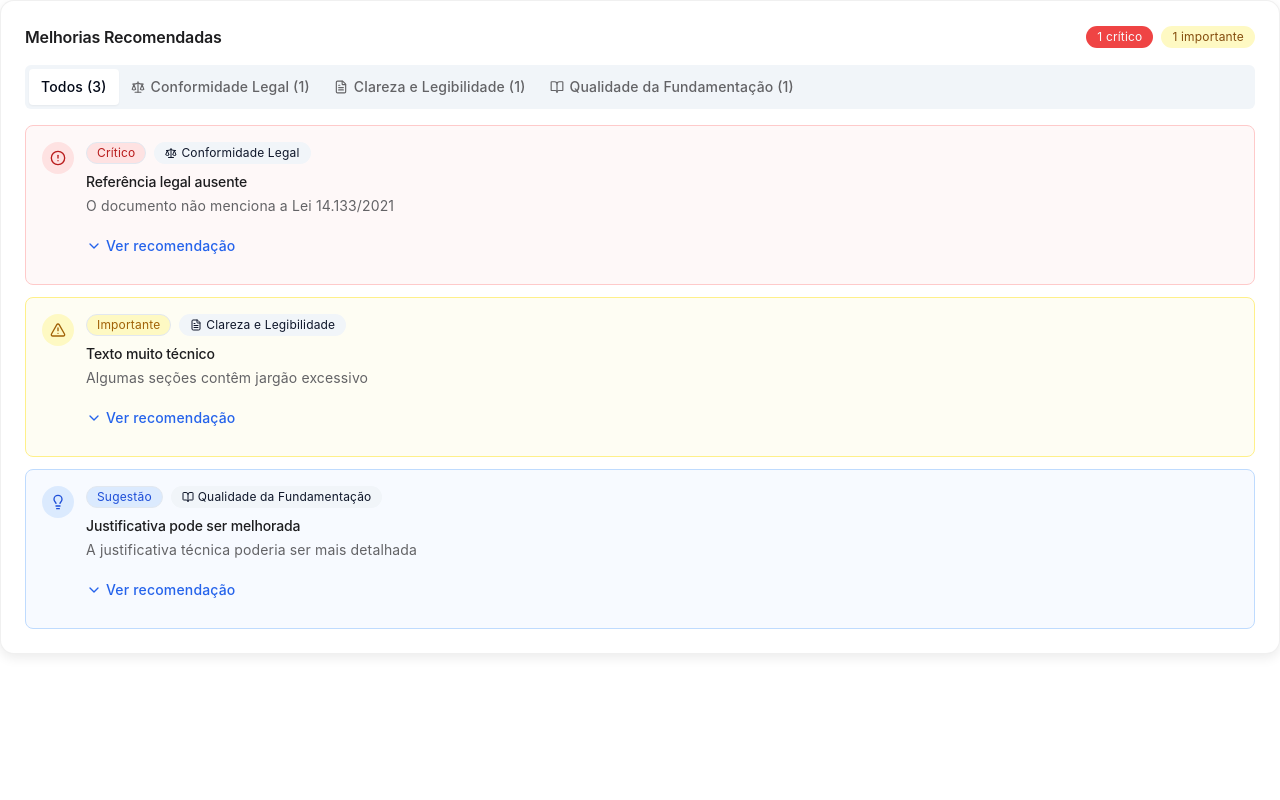
Test: ImprovementList › Expandable Recommendations › shows recommendation when expanded
The width and height of the screenshot is (1280, 800).
Click the button "Ver recomendação" below "Referência legal ausente": point(161, 246) [86,224,236,268]
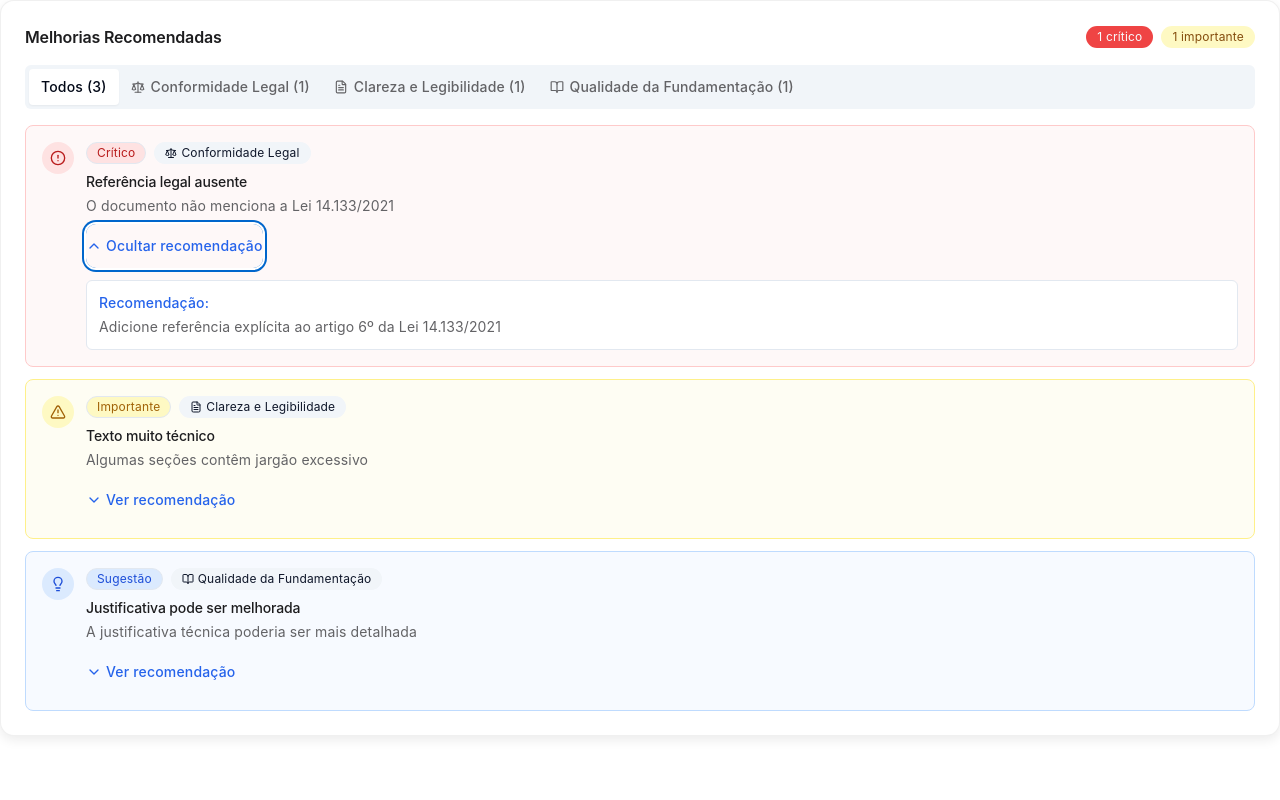
Now the text "Adicione referência explícita ao artigo 6º da Lei 14.133/2021" is shown, box [99,318,501,335]
